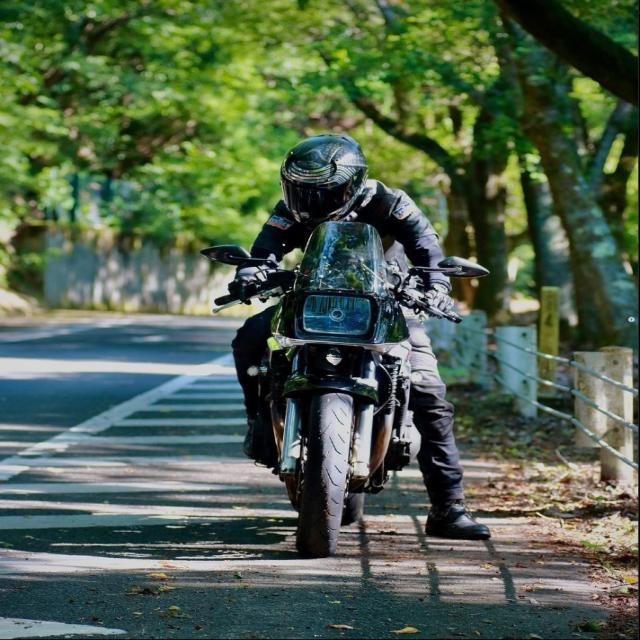helmet: (276, 131, 372, 229)
